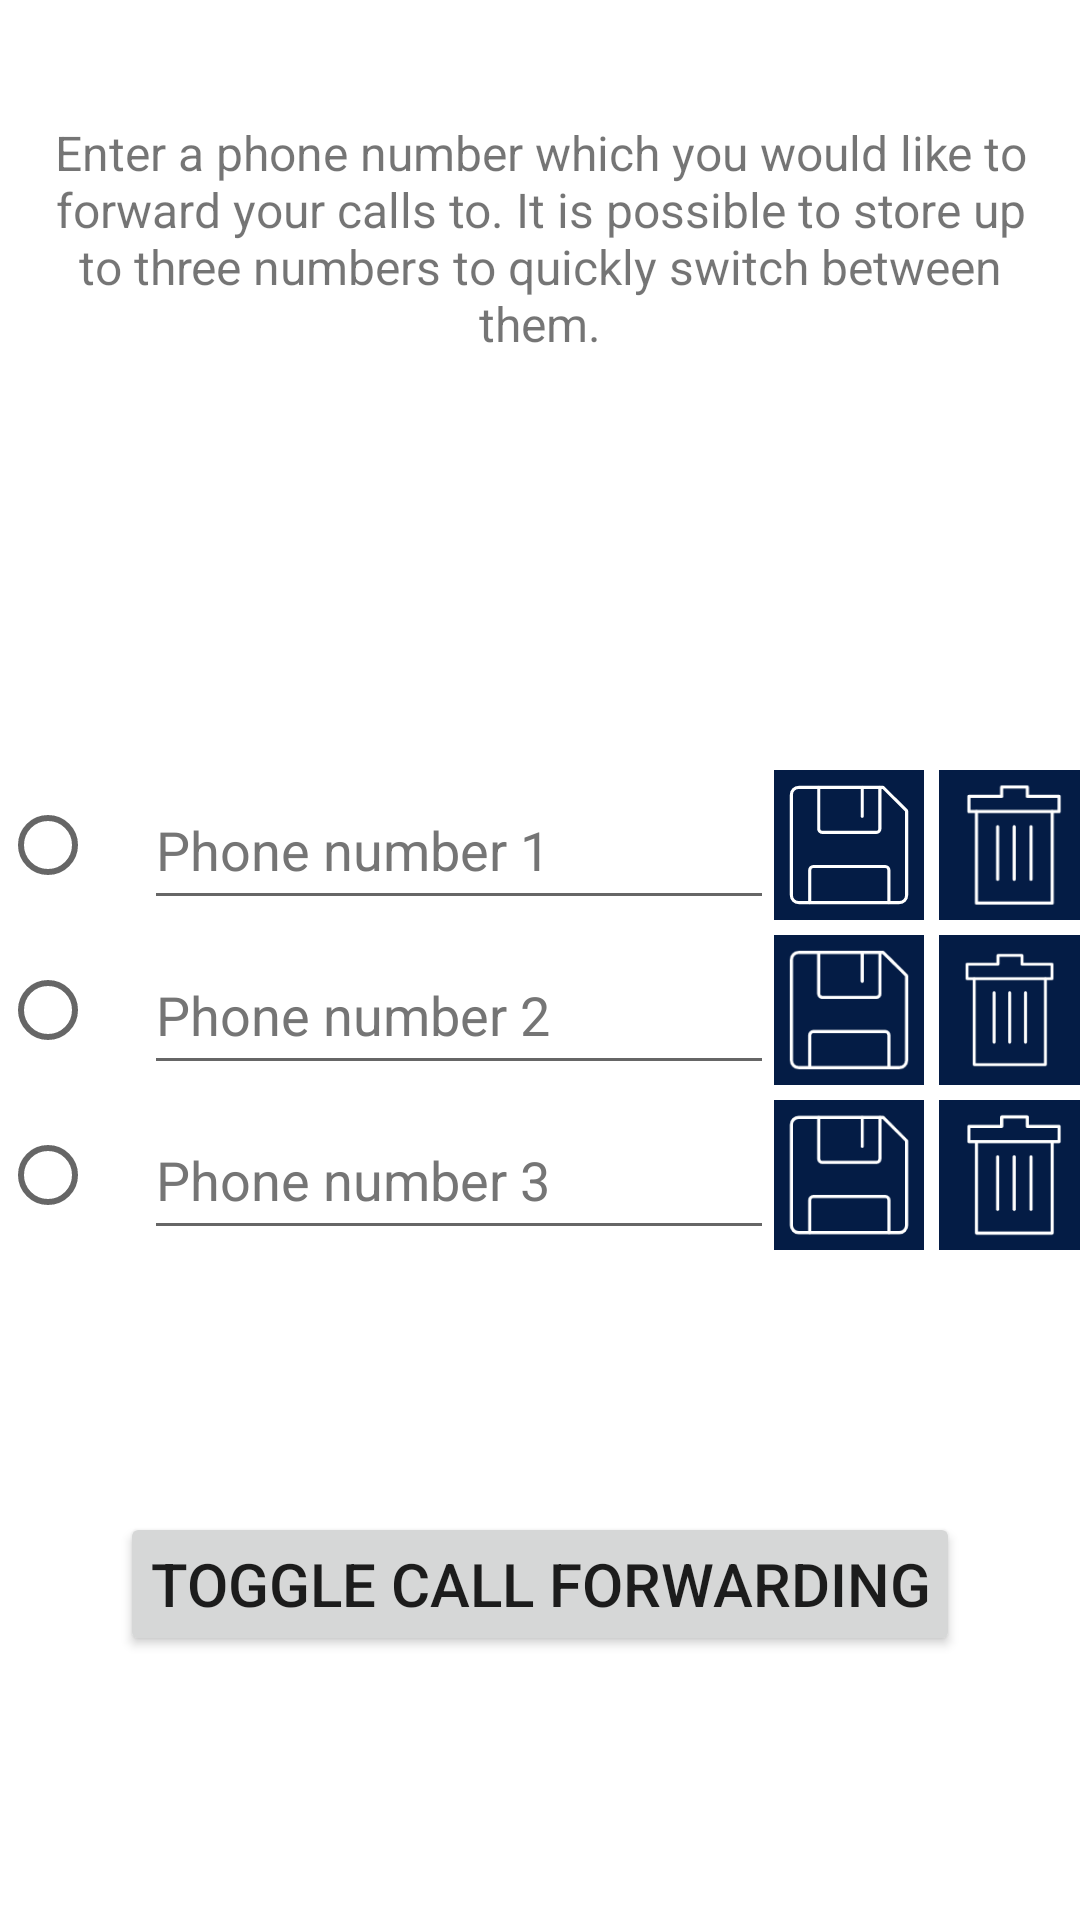

Icons on this 1080 × 1920 Android screen, each with the point to tap as (x=x, y=y):
Delete row 1: (x=1009, y=845)
Delete row 2: (x=1009, y=1010)
Delete row 3: (x=1009, y=1175)
Save row 1: (x=849, y=845)
Save row 2: (x=849, y=1010)
Save row 3: (x=849, y=1175)
